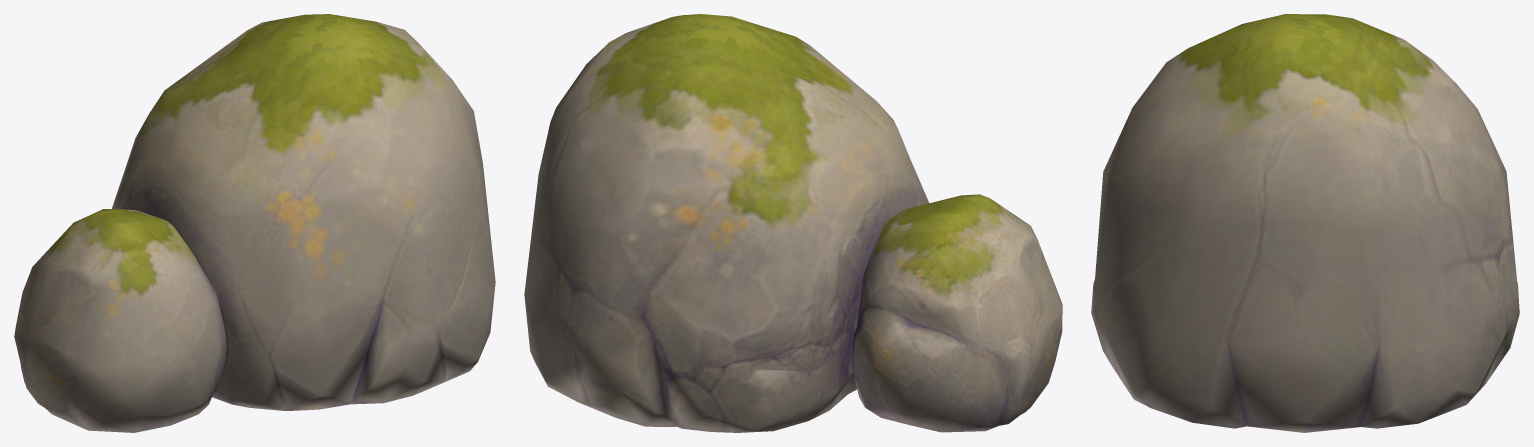
Rendered from boulder_b.glb.
3 renders of one model, left to right at view 1: azimuth 30°, elevation 25°; view 2: azimuth 150°, elevation 25°; view 3: azimuth 270°, elevation 25°, orthographic. The views are drawn at different scales.
Parts seen in each view (by area): view 1: boulder_b; view 2: boulder_b; view 3: boulder_b.
Boxes of the visible parts, <box> form: boulder_b: <box>14,14,495,432</box>; boulder_b: <box>524,14,1062,432</box>; boulder_b: <box>1091,14,1519,432</box>.
Bounding box in the file's own units: 1 × 0.6555 × 0.7441.
1 material, 1 textured.
